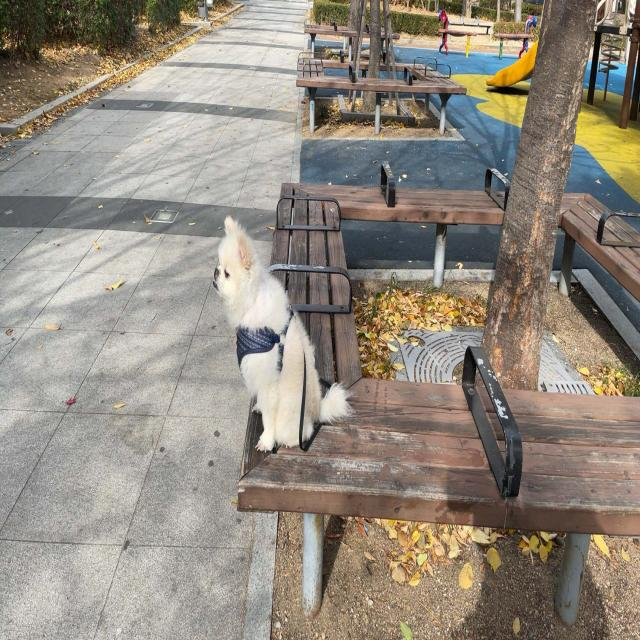Dog: (212, 216, 354, 453)
